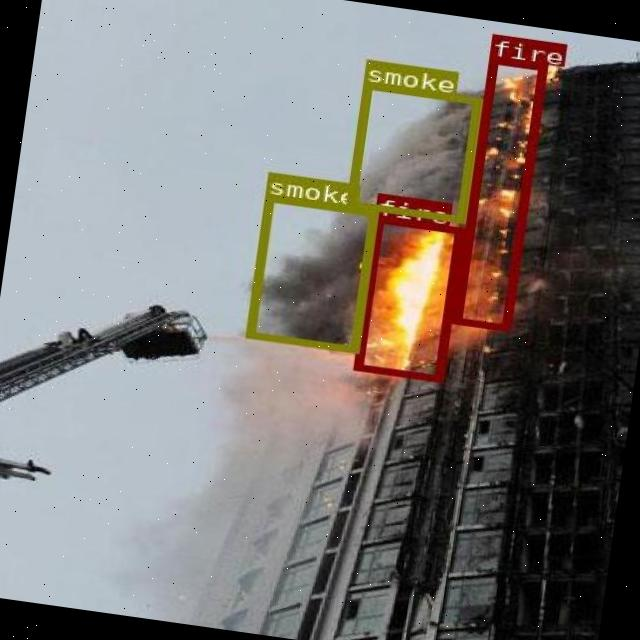fire: (452, 56, 546, 329), (352, 216, 462, 380)
smoke: (243, 194, 377, 352), (346, 82, 479, 222)
